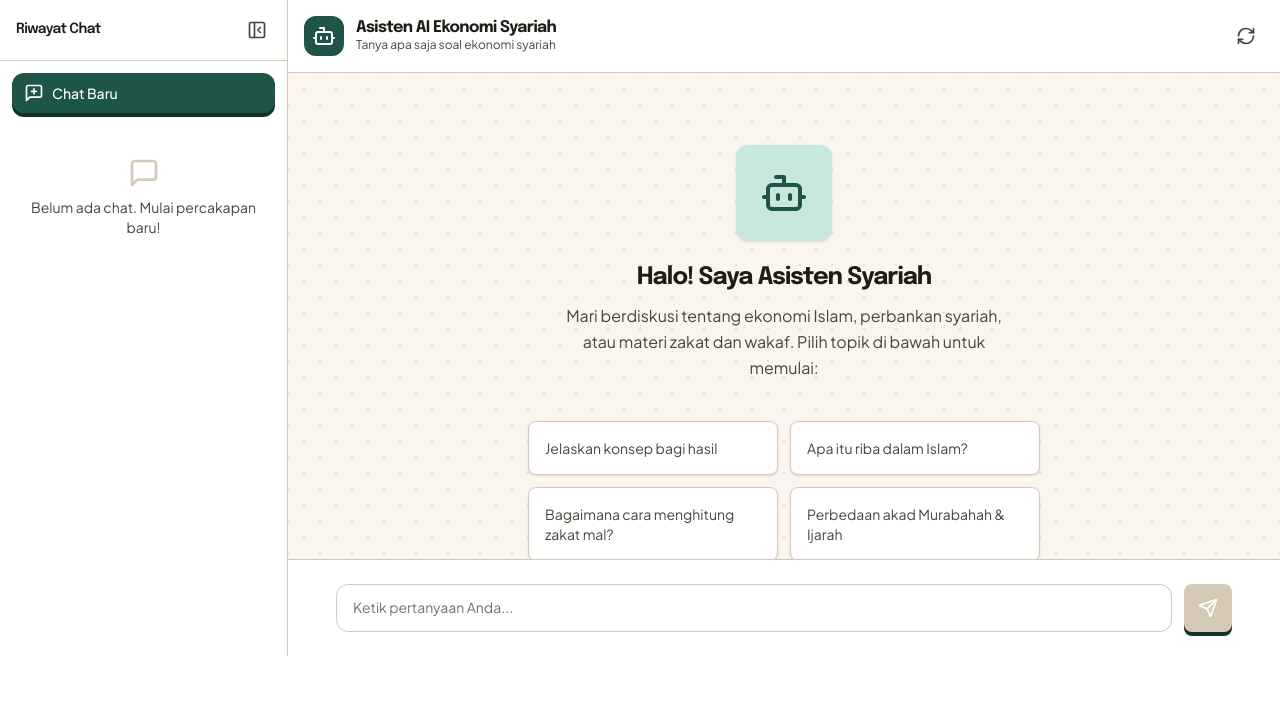
Test case: F5 — Chatbot AI › TC-F.19: Student membuka chatbot dan mengirim pesan pertama
In the text box with placeholder "Ketik pertanyaan Anda...": (754, 608) x1=336 y1=584 x2=1172 y2=632, type "Jelaskan konsep bagi hasil"
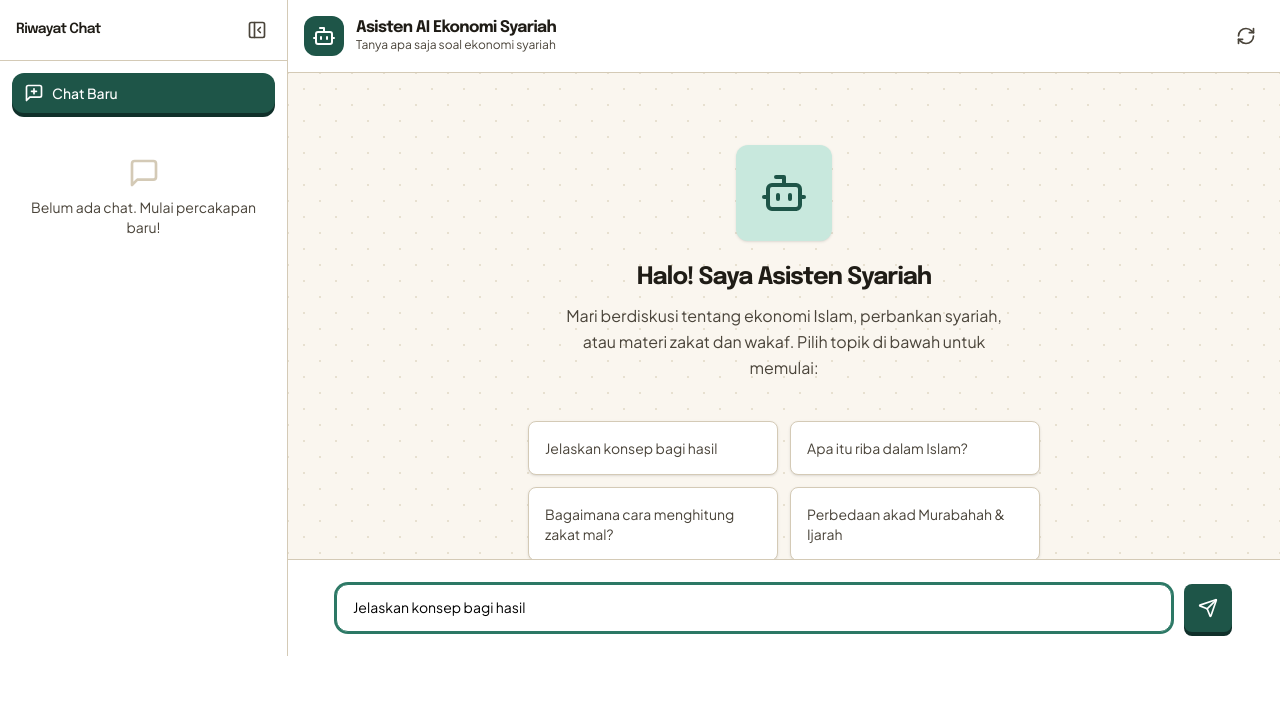
Press Enter
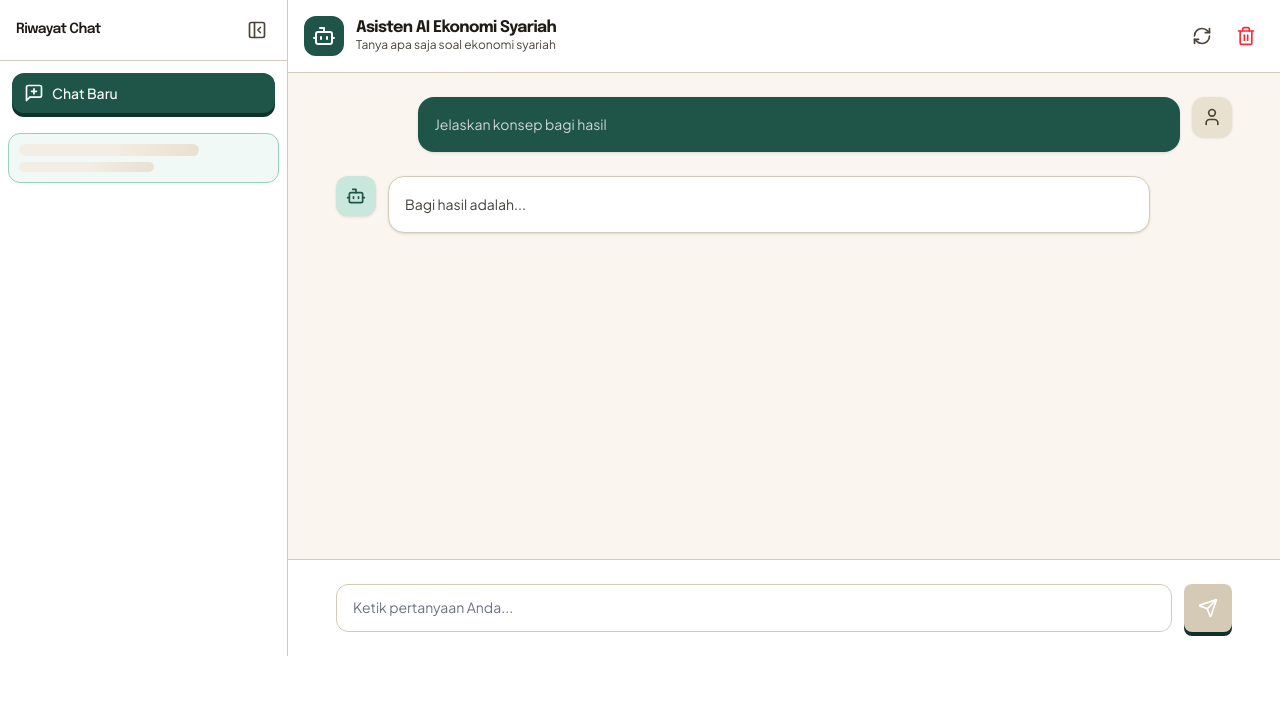
Check: the text "Jelaskan konsep bagi hasil" is shown, box x1=434 y1=115 x2=607 y2=133
Check: the text "Bagi hasil adalah..." is shown, box x1=405 y1=195 x2=526 y2=213
